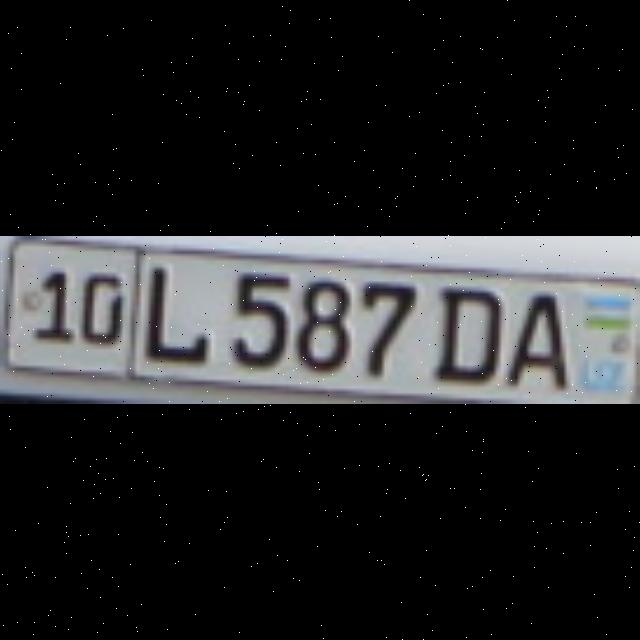0: (75, 269, 117, 339)
1: (28, 264, 70, 334)
5: (229, 268, 285, 362)
7: (355, 274, 411, 366)
8: (294, 274, 346, 362)
A: (505, 288, 561, 380)
D: (434, 282, 496, 376)
L: (140, 259, 206, 357)
